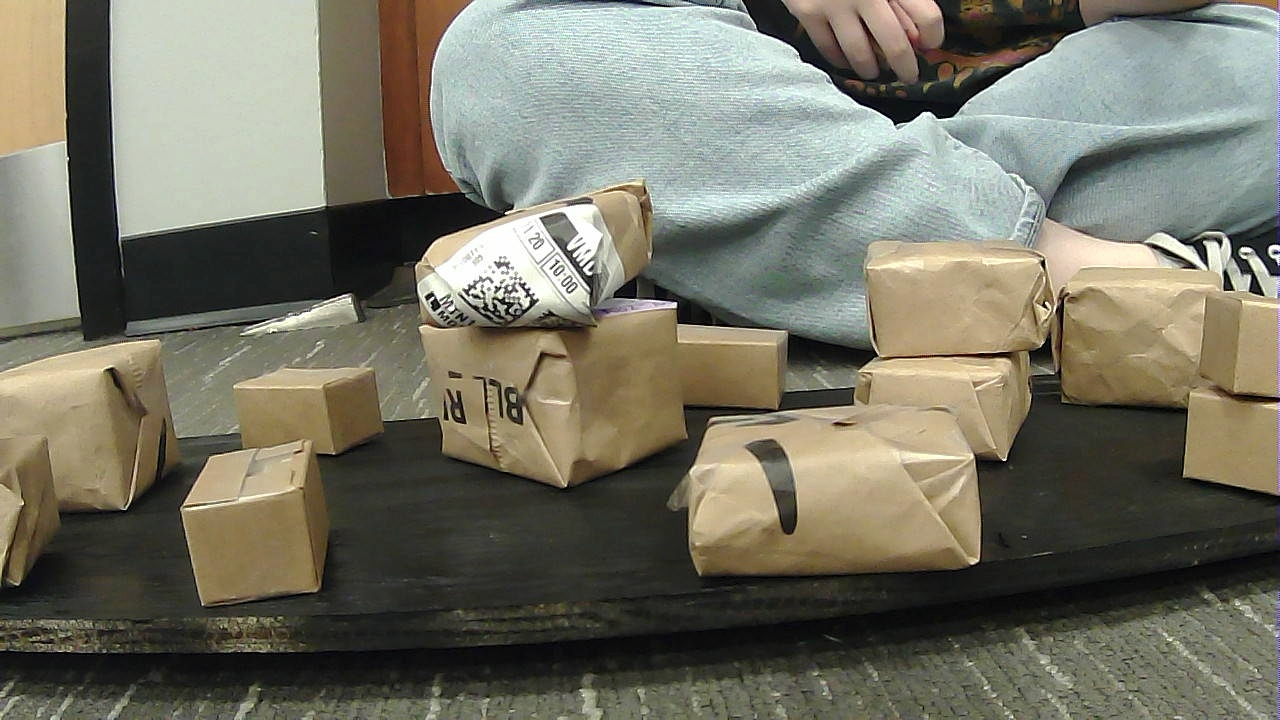package: (678, 413, 1002, 572), (419, 323, 700, 476), (405, 193, 671, 314), (172, 437, 354, 610), (4, 341, 192, 495), (856, 238, 1065, 353), (1051, 271, 1223, 409), (854, 343, 1041, 453), (222, 355, 406, 460), (675, 318, 796, 411), (1179, 380, 1275, 494), (11, 435, 84, 574), (1206, 291, 1277, 398)
stacked: (413, 194, 695, 460), (852, 238, 1068, 447), (1193, 280, 1275, 494)
